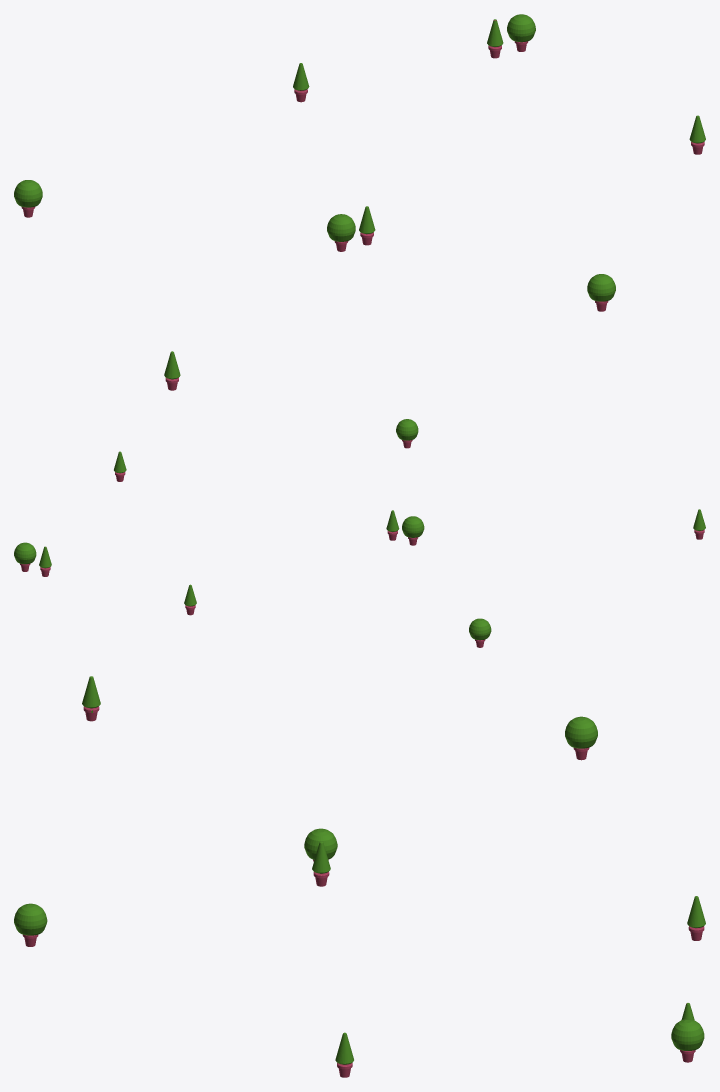
The model's file is Derevia.fbx.
3 renders of one model, top to bottom at view 1: azimuth 30°, elevation 25°; view 2: azimuth 150°, elevation 25°; view 3: azimuth 270°, elevation 25°, orthographic. The views are drawn at different scales.
Visible parts, largest first — view 1: Цилиндр.003; view 2: Цилиндр.003; view 3: Цилиндр.003.
Boxes of the visible parts, <box> form: Цилиндр.003: <box>14,14,705,390</box>; Цилиндр.003: <box>14,419,705,647</box>; Цилиндр.003: <box>14,676,705,1077</box>.
Bounding box in the file's own units: 622 × 33.79 × 499.
